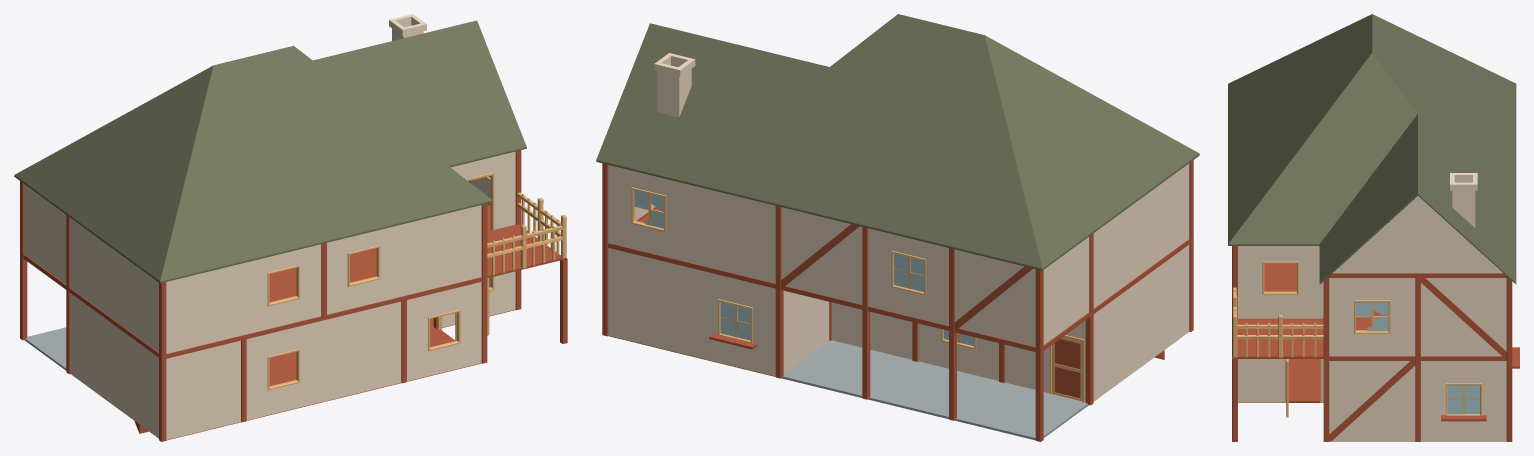
File: ExampleBuilding1.glb
3 views of the same model, side by side, from view 1: azimuth 30°, elevation 25°; view 2: azimuth 150°, elevation 25°; view 3: azimuth 270°, elevation 25° (orthographic). The views are drawn at different scales.
Parts seen in each view (by area): view 1: Roof_Steep.005, Roof_Steep.006, Roof_Steep.008, Roof_Steep_Corner_Outer.005, Roof_Steep.004, Wall.008, Wall.007, Roof_Mild_Ending_Half.002, Wall_Window.004, Wall.012, Wall.013, Wall_Window.003 (+33 smaller); view 2: Roof_Steep.003, Roof_Steep.001, Roof_Steep.002, Roof_Steep_Corner_Outer.004, Roof_Steep.007, Roof_Steep.004, Wall.005, Roof_Mild_Ending_Half.002, Wall.018, Wall_Window.002, Wall.015, Wall_Window.006 (+39 smaller); view 3: Roof_Steep_Corner_Inner.001, Roof_Steep_Corner_Outer.003, Wall.003, Wall.021, Wall_Window.011, Wall_Window.012, Roof_Mild_Ending_Half.001, Wall_Window.009, Roof_Steep.003, Roof_Steep.006, Roof_Steep.005, Roof_Steep.008 (+41 smaller).
Boxes of the visible parts, x1=… form: Roof_Steep.005: x1=196, y1=114, x2=322, y2=251; Roof_Steep.006: x1=277, y1=95, x2=402, y2=232; Roof_Steep.008: x1=391, y1=22, x2=517, y2=158; Roof_Steep_Corner_Outer.005: x1=116, y1=134, x2=242, y2=271; Roof_Steep.004: x1=70, y1=100, x2=196, y2=237; Wall.008: x1=323, y1=301, x2=401, y2=401; Wall.007: x1=166, y1=340, x2=240, y2=439; Roof_Mild_Ending_Half.002: x1=150, y1=55, x2=276, y2=133; Wall_Window.004: x1=246, y1=320, x2=323, y2=420; Wall.012: x1=166, y1=263, x2=243, y2=353; Wall.013: x1=404, y1=205, x2=481, y2=295; Wall_Window.003: x1=407, y1=282, x2=481, y2=381; Roof_Steep.003: x1=866, y1=88, x2=1002, y2=236; Roof_Steep.001: x1=693, y1=46, x2=829, y2=194; Roof_Steep.002: x1=780, y1=67, x2=915, y2=215; Roof_Steep_Corner_Outer.004: x1=953, y1=110, x2=1089, y2=257; Roof_Steep.007: x1=606, y1=25, x2=742, y2=172; Roof_Steep.004: x1=1003, y1=73, x2=1139, y2=220; Wall.005: x1=608, y1=248, x2=692, y2=355; Roof_Mild_Ending_Half.002: x1=916, y1=24, x2=1052, y2=109; Wall.018: x1=692, y1=185, x2=775, y2=283; Wall_Window.002: x1=692, y1=268, x2=775, y2=376; Wall.015: x1=781, y1=207, x2=862, y2=304; Wall_Window.006: x1=608, y1=165, x2=692, y2=262; Roof_Steep_Corner_Inner.001: x1=1326, y1=113, x2=1417, y2=234; Roof_Steep_Corner_Outer.003: x1=1235, y1=113, x2=1326, y2=234; Wall.003: x1=1329, y1=361, x2=1415, y2=441; Wall.021: x1=1421, y1=278, x2=1506, y2=356; Wall_Window.011: x1=1329, y1=278, x2=1415, y2=356; Wall_Window.012: x1=1421, y1=361, x2=1506, y2=441; Roof_Mild_Ending_Half.001: x1=1326, y1=33, x2=1417, y2=113; Wall_Window.009: x1=1238, y1=246, x2=1323, y2=318; Roof_Steep.003: x1=1418, y1=36, x2=1509, y2=157; Roof_Steep.006: x1=1235, y1=75, x2=1326, y2=195; Roof_Steep.005: x1=1235, y1=36, x2=1326, y2=157; Roof_Steep.008: x1=1326, y1=152, x2=1417, y2=273.
Size of the model in its own units: 20.75 by 14.55 by 12.75.
Materials: 1 (1 with a texture image).
